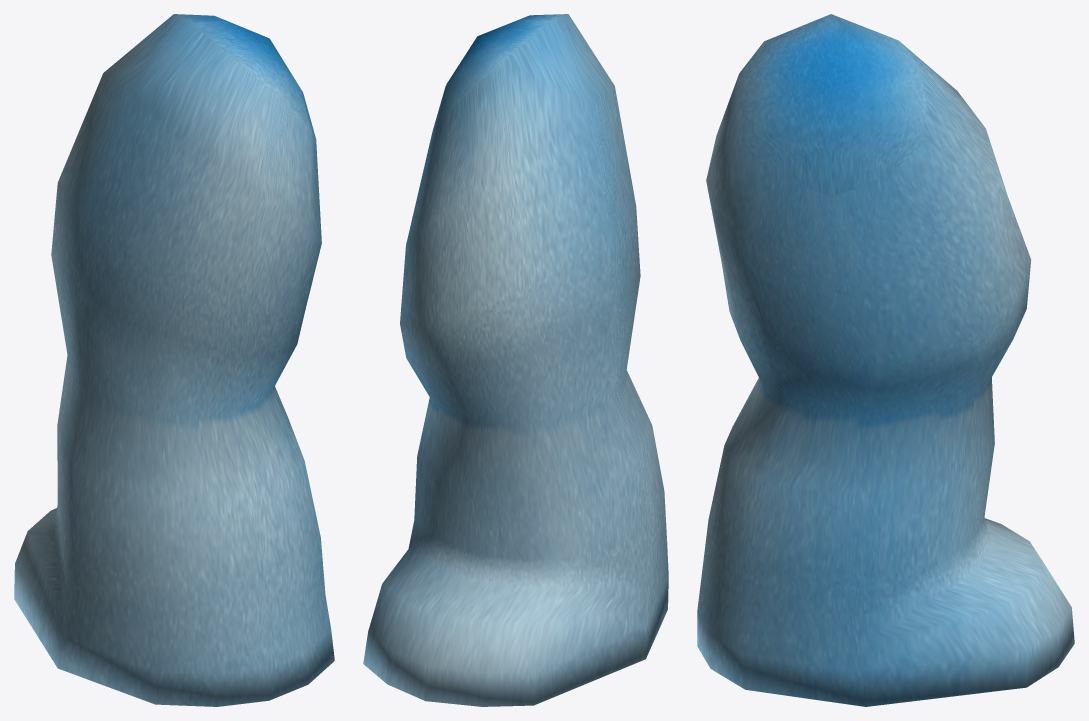
3 renders of one model, left to right at view 1: azimuth 30°, elevation 25°; view 2: azimuth 150°, elevation 25°; view 3: azimuth 270°, elevation 25°, orthographic. The views are drawn at different scales.
Parts seen in each view (by area): view 1: Mesh; view 2: Mesh; view 3: Mesh.
Part boxes in pixels (left/top/right/bottom): Mesh: left=14, top=14, right=334, bottom=706; Mesh: left=363, top=14, right=668, bottom=706; Mesh: left=697, top=14, right=1074, bottom=706.
Bounding box in the file's own units: 1.01 × 2.39 × 1.3.
